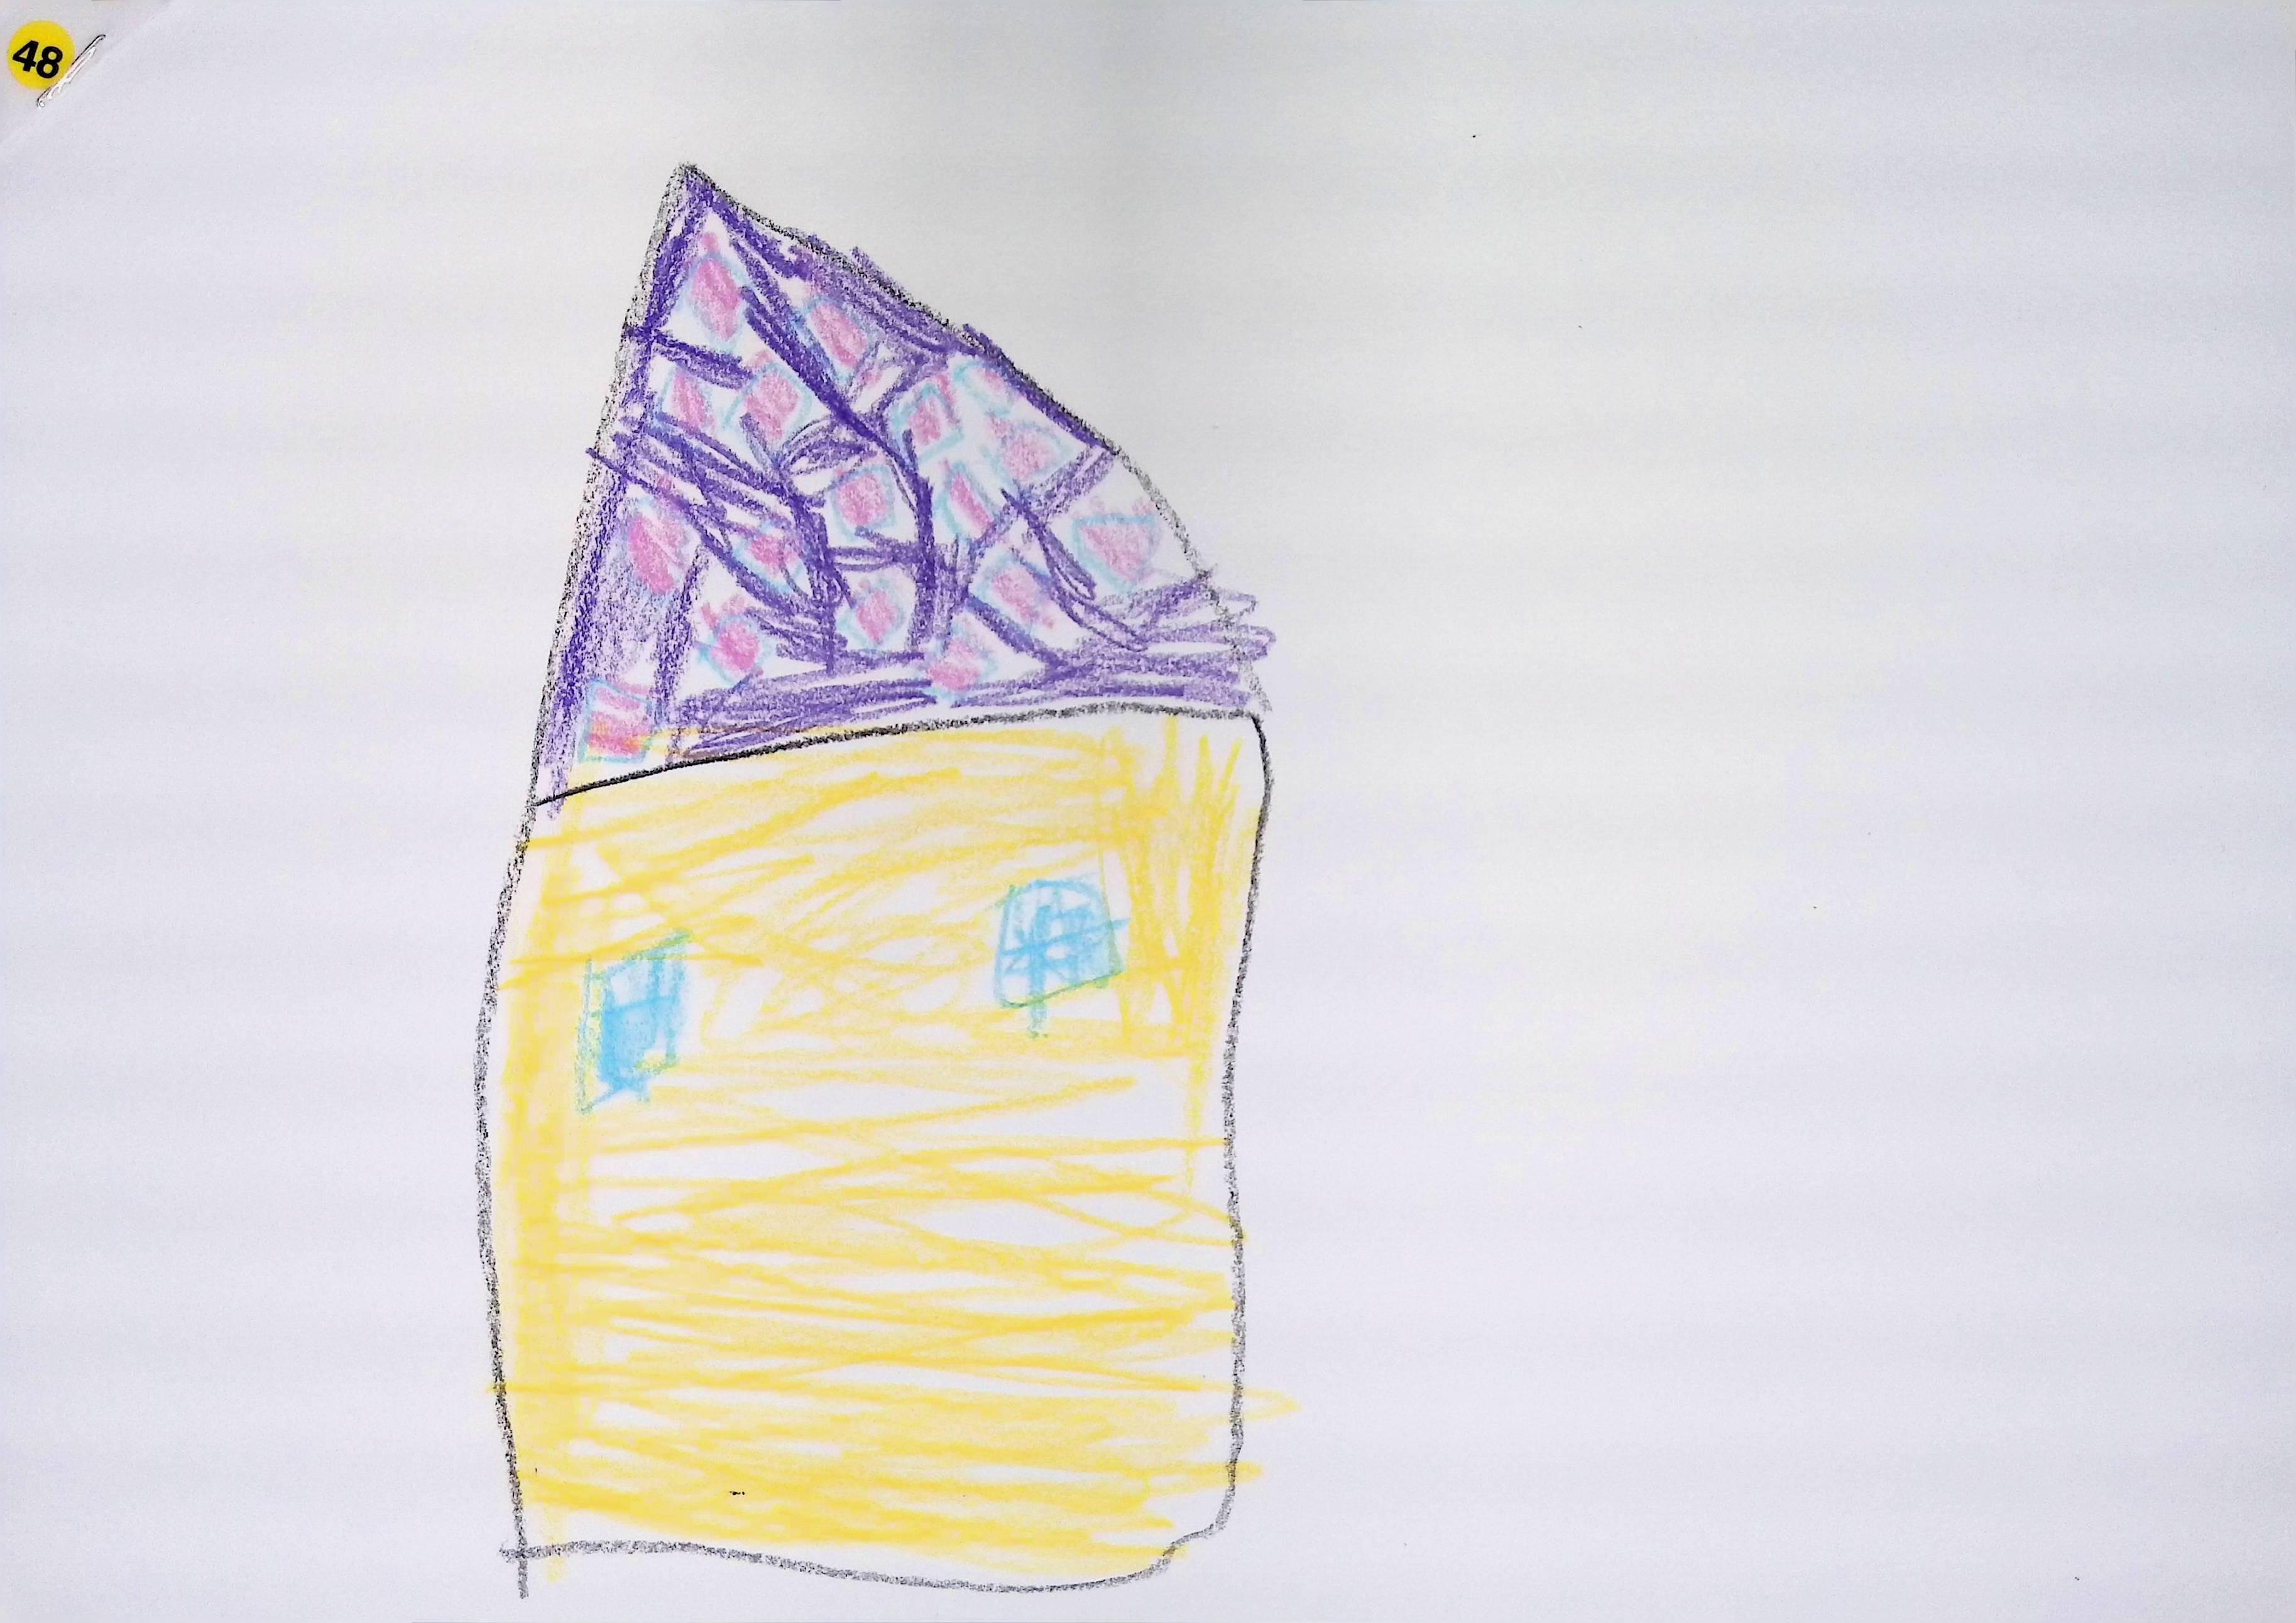house: (478, 165, 1272, 1591)
roof: (536, 165, 1270, 796)
wall: (485, 711, 1265, 1586)
window: (576, 933, 687, 1112), (994, 878, 1123, 1008)
